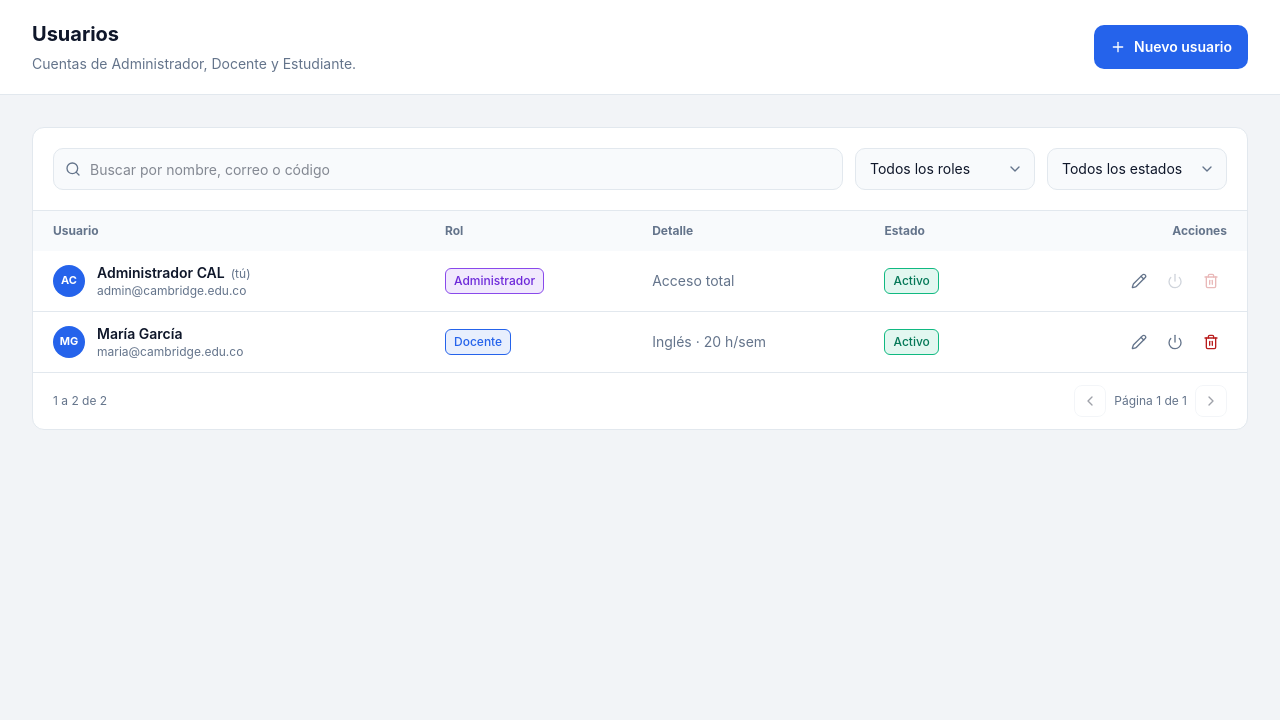
Usuarios (RF-06) › crea un estudiante validando el código en el cliente
Expected: the text "María García" is shown, [97,325,182,342]
Step 1. Click the button "Nuevo usuario" → (1171, 47), box [1094,25,1248,69]
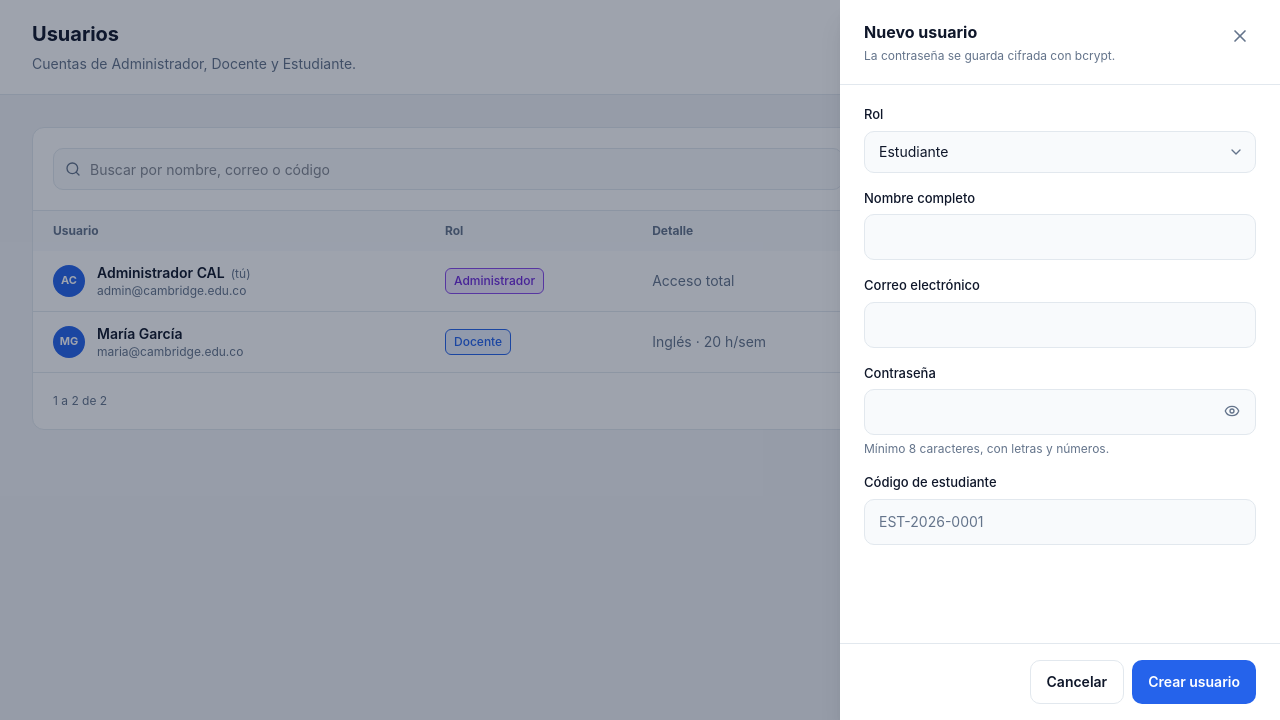
Step 2. Type "Camila Rosero" into the field labelled "Nombre completo" → (1060, 237), box [864,214,1256,260]
Step 3. Type "camila@cambridge.edu.co" into the field labelled "Correo electrónico" → (1060, 324), box [864,302,1256,348]
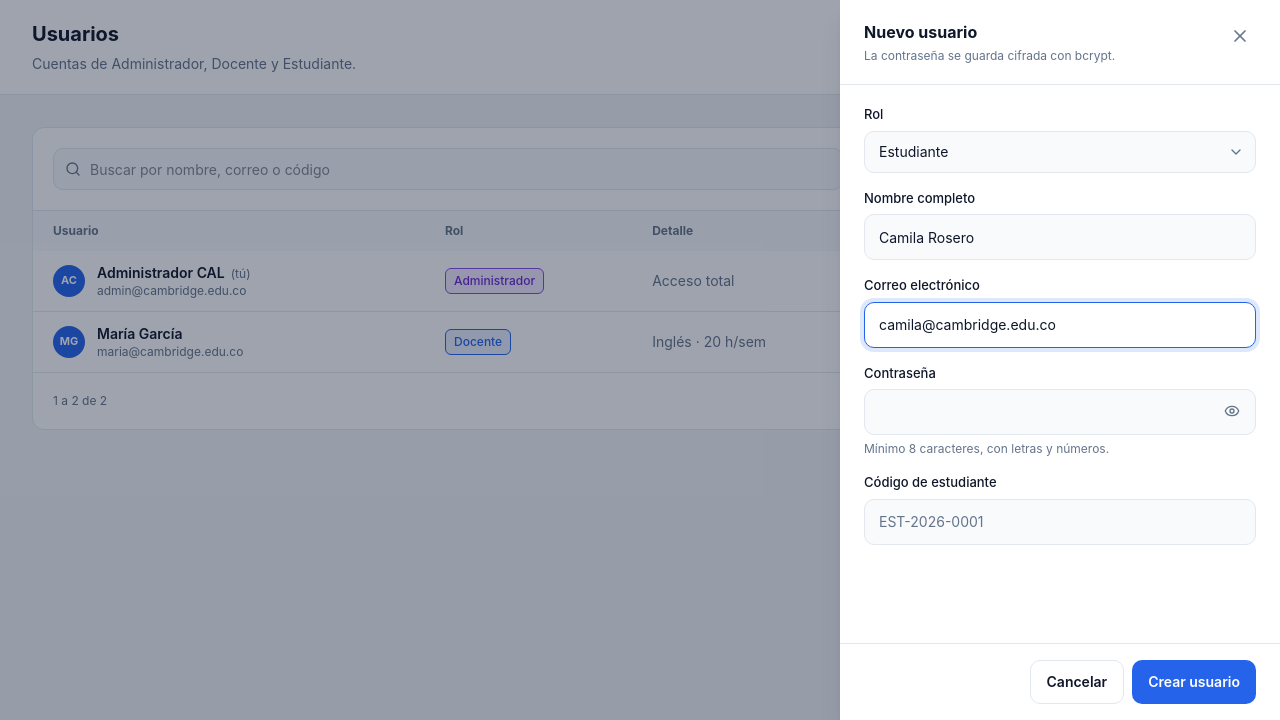
Step 4. Type "ClaveSegura1" into the password field labelled "Contraseña" → (1060, 412), box [864,389,1256,435]
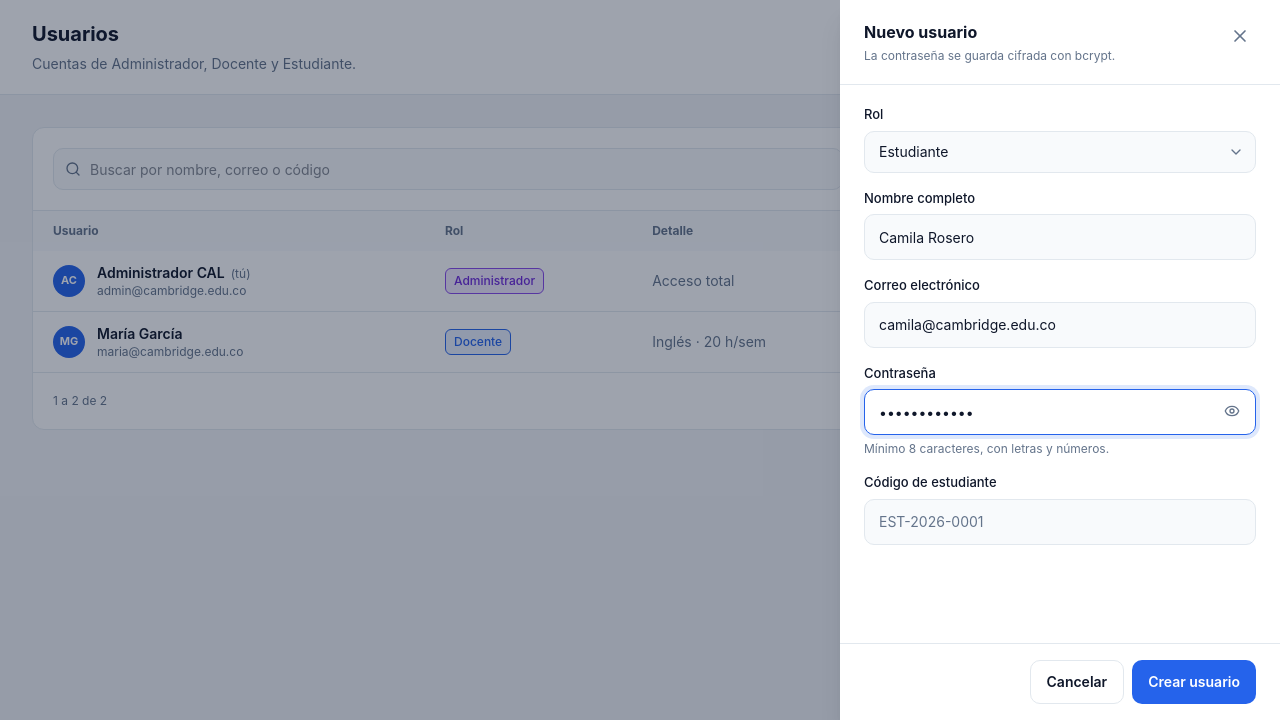
Step 5. Click the button "Crear usuario" → (1194, 682), box [1132,660,1256,704]
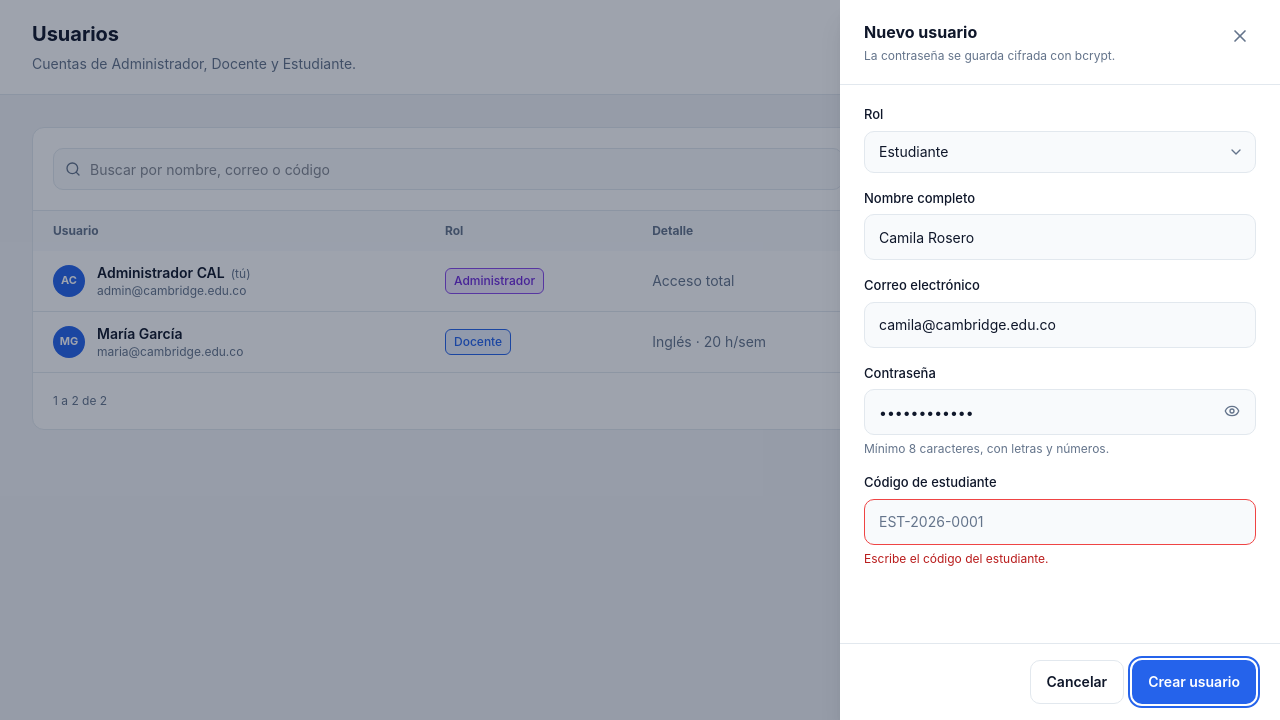
Expected: the text "Escribe el código del estudiante." is shown, [864,550,1048,566]
Step 6. Type "EST-1" into the field labelled "Código de estudiante" → (1060, 522), box [864,498,1256,544]
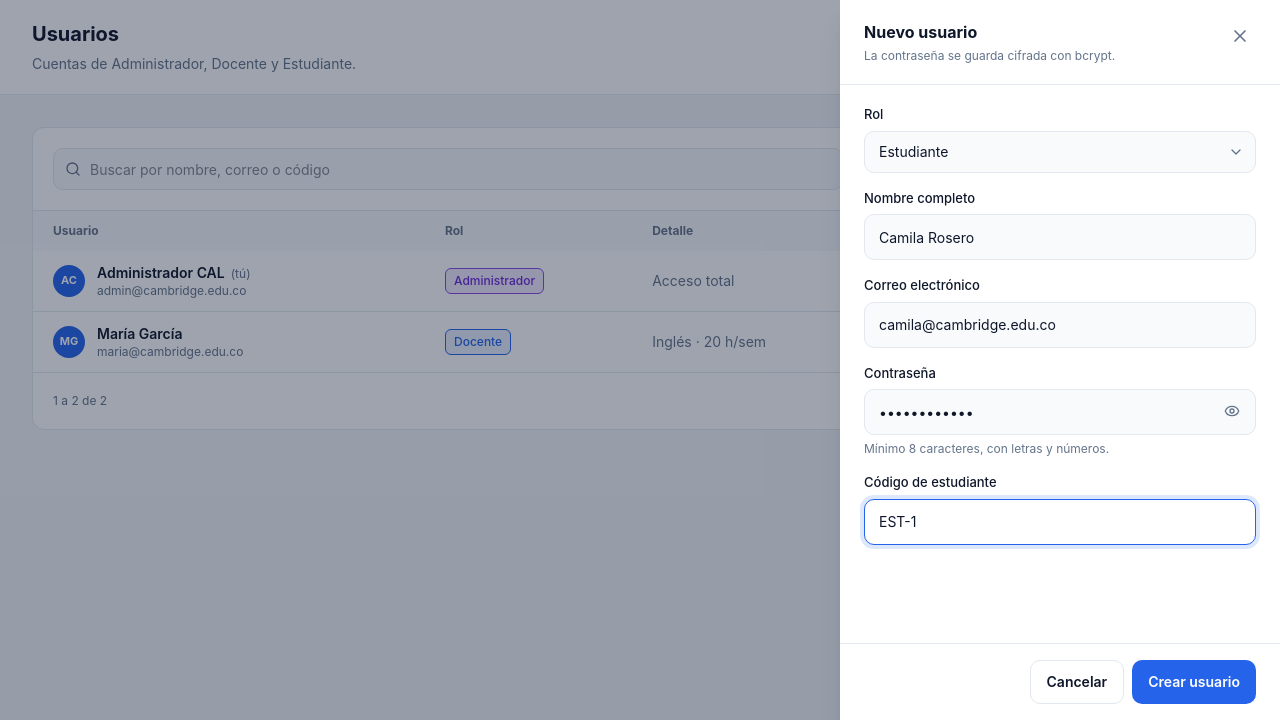
Step 7. Click the button "Crear usuario" → (1194, 682), box [1132,660,1256,704]
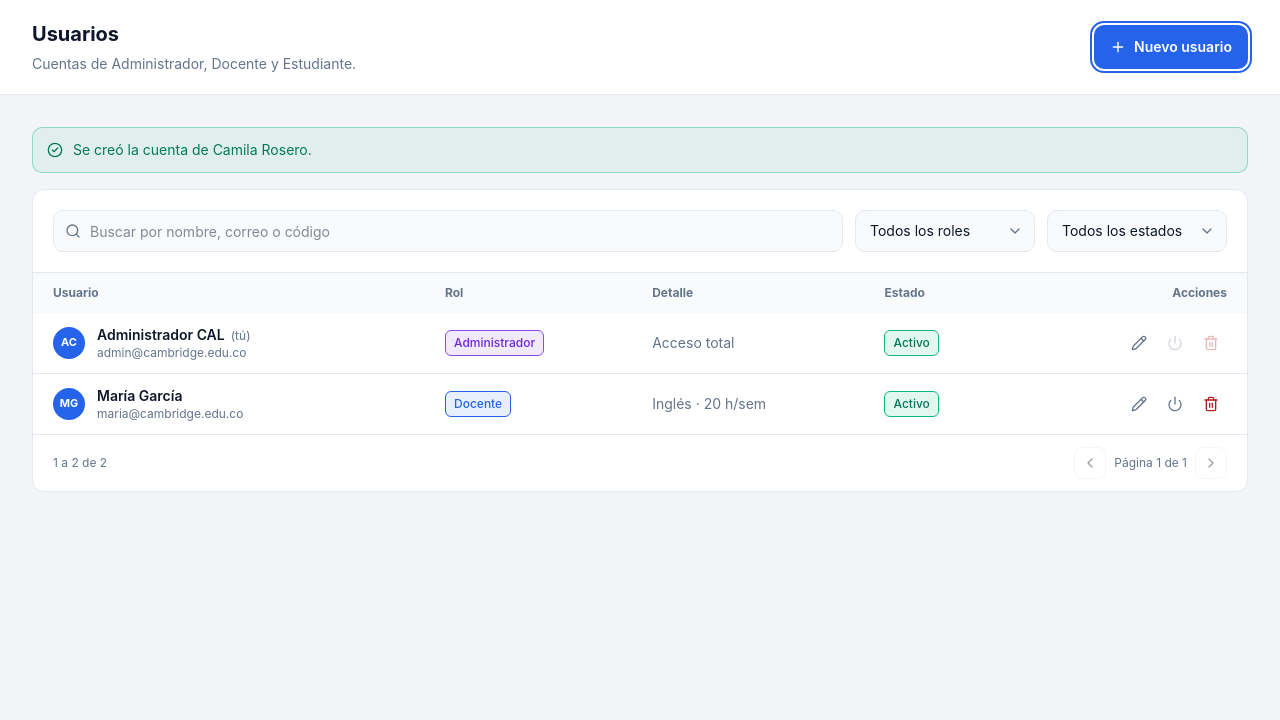
Expected: the text "Se creó la cuenta de Camila Rosero." is shown, [73,140,312,160]
